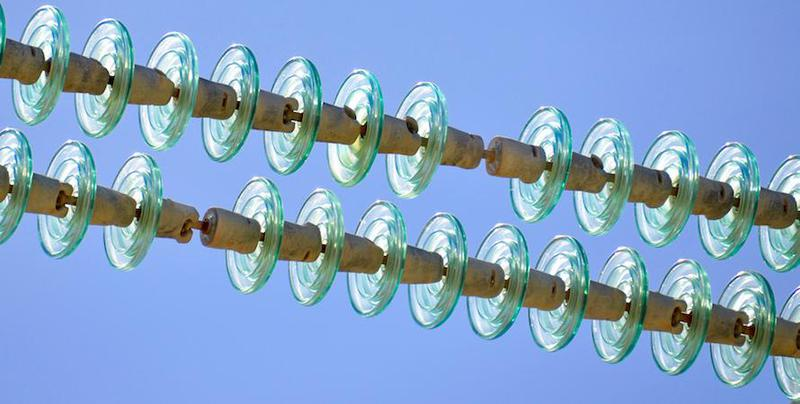gap: (384, 80, 572, 223), (102, 151, 284, 296)
